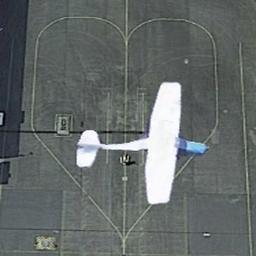Airplane: (75, 80, 210, 205)
